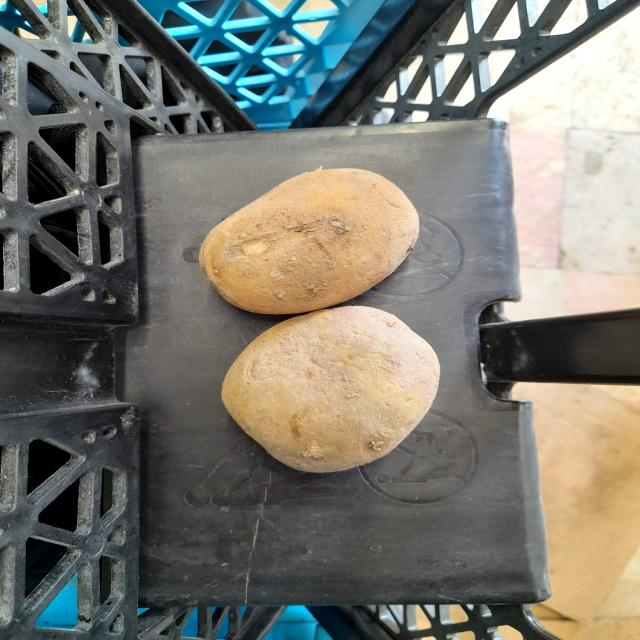potato: (201, 304, 472, 482), (191, 161, 442, 316)
